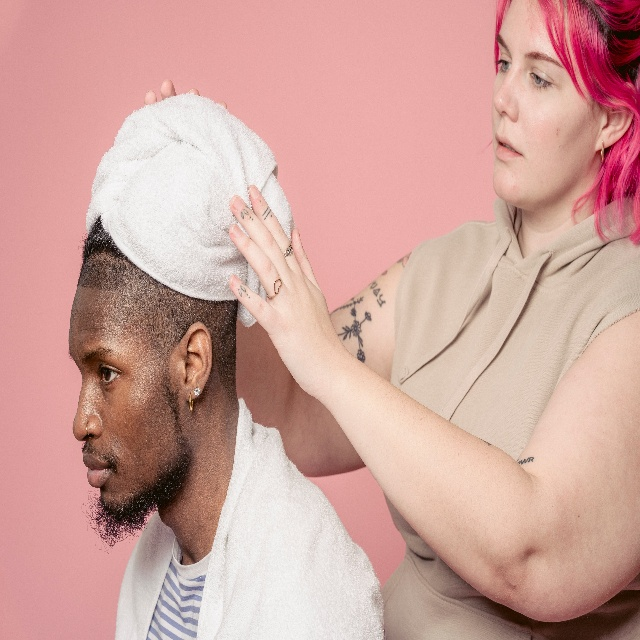Sin_guantes: (228, 184, 344, 400)
